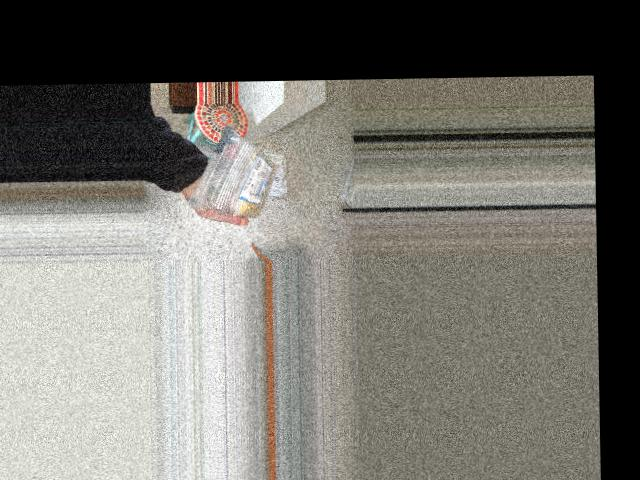cheese: (186, 119, 294, 216)
